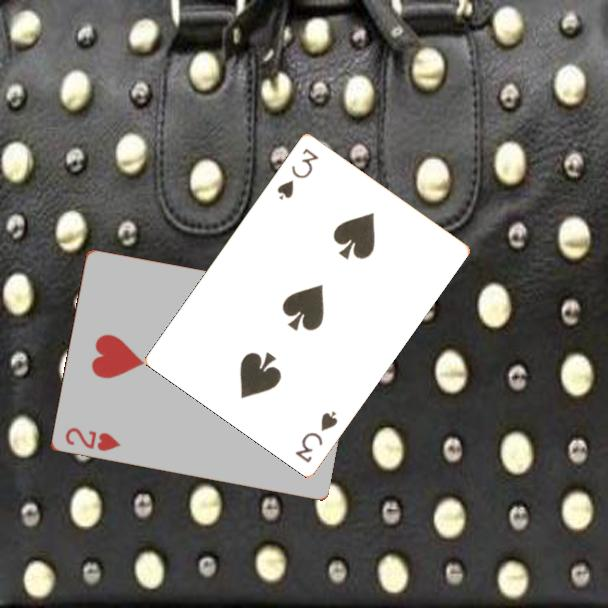h02: (61, 424, 123, 454)
s03: (291, 407, 341, 465), (273, 144, 322, 202)
